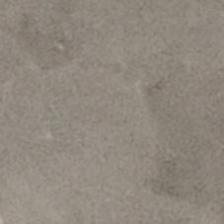Non_Crack: (37, 24, 224, 219)
